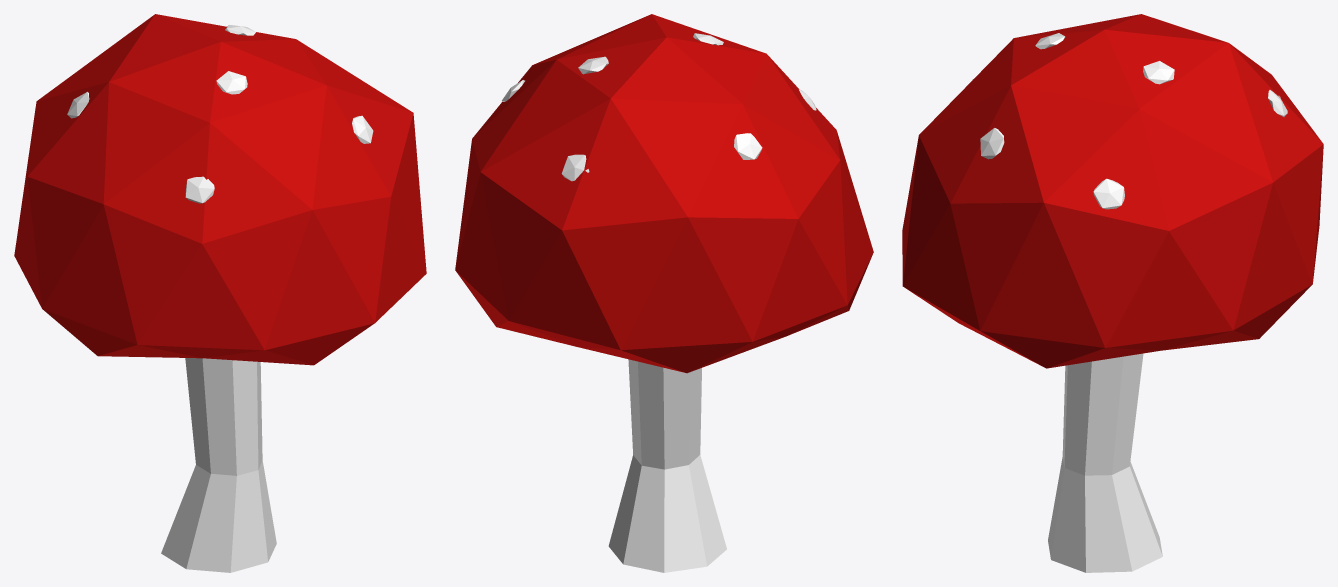
The model's file is mushroom12.obj.
3 renders of one model, left to right at view 1: azimuth 30°, elevation 25°; view 2: azimuth 150°, elevation 25°; view 3: azimuth 270°, elevation 25°, orthographic. The views are drawn at different scales.
Visible parts, largest first — view 1: Mushroom5_2_Cylinder.057; view 2: Mushroom5_2_Cylinder.057; view 3: Mushroom5_2_Cylinder.057.
Boxes of the visible parts, x1,y1,x2,y2 form: Mushroom5_2_Cylinder.057: (14,14,426,572); Mushroom5_2_Cylinder.057: (455,14,873,572); Mushroom5_2_Cylinder.057: (902,14,1323,572).
Bounding box in the file's own units: 0.8764 × 1.18 × 0.8702.
